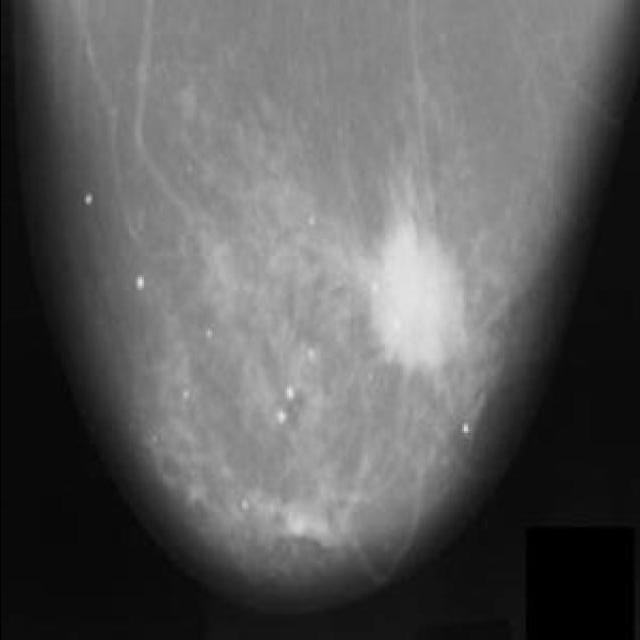tumor: (358, 209, 479, 414), (226, 476, 350, 550)
